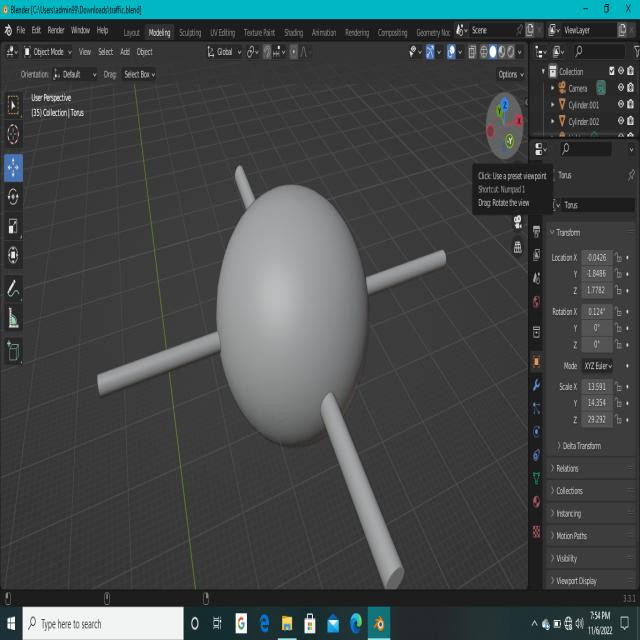person: (187, 138, 429, 495)
